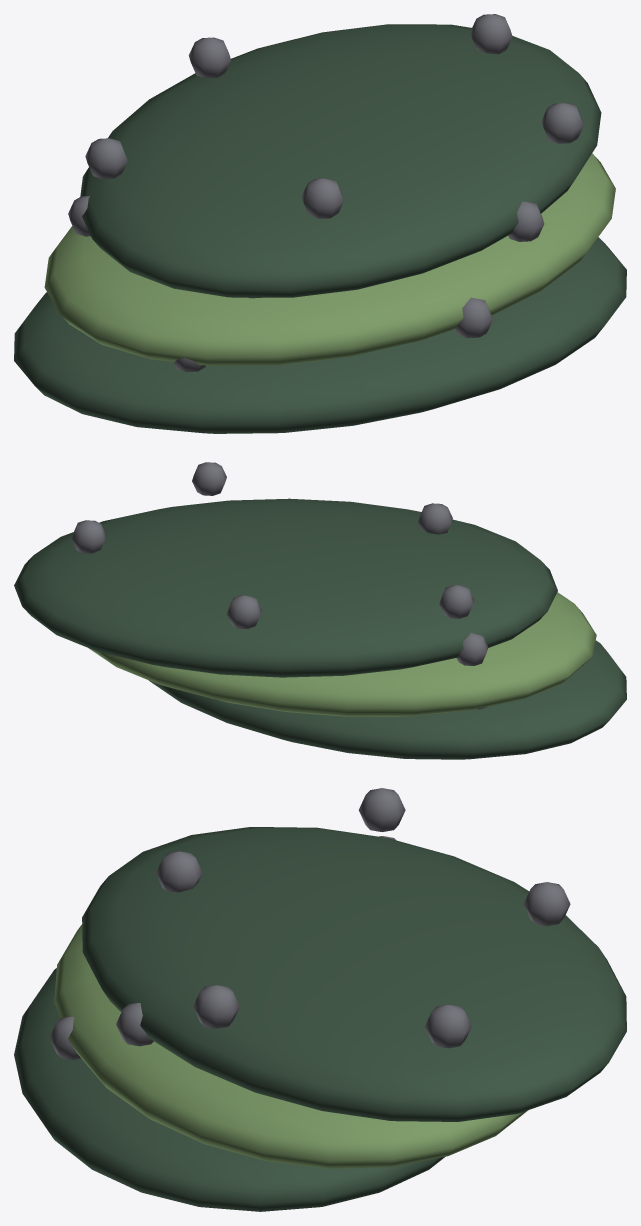
Rendered from chitinplatten.glb.
The picture shows the model from 3 angles, top to bottom: view 1: azimuth 30°, elevation 25°; view 2: azimuth 150°, elevation 25°; view 3: azimuth 270°, elevation 25°; orthographic projection. The views are drawn at different scales.
Parts seen in each view (by area): view 1: Sphere; view 2: Sphere; view 3: Sphere.
Boxes of the visible parts, x1,y1,x2,y2 form: Sphere: [14, 14, 626, 433]; Sphere: [14, 462, 626, 759]; Sphere: [14, 788, 626, 1211].
Size of the model in its own units: 0.1941 by 0.0664 by 0.1566.
